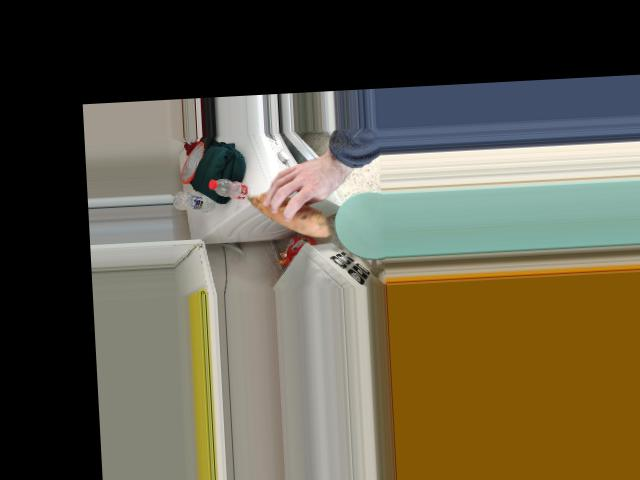sweet_potato: (252, 177, 317, 238)
